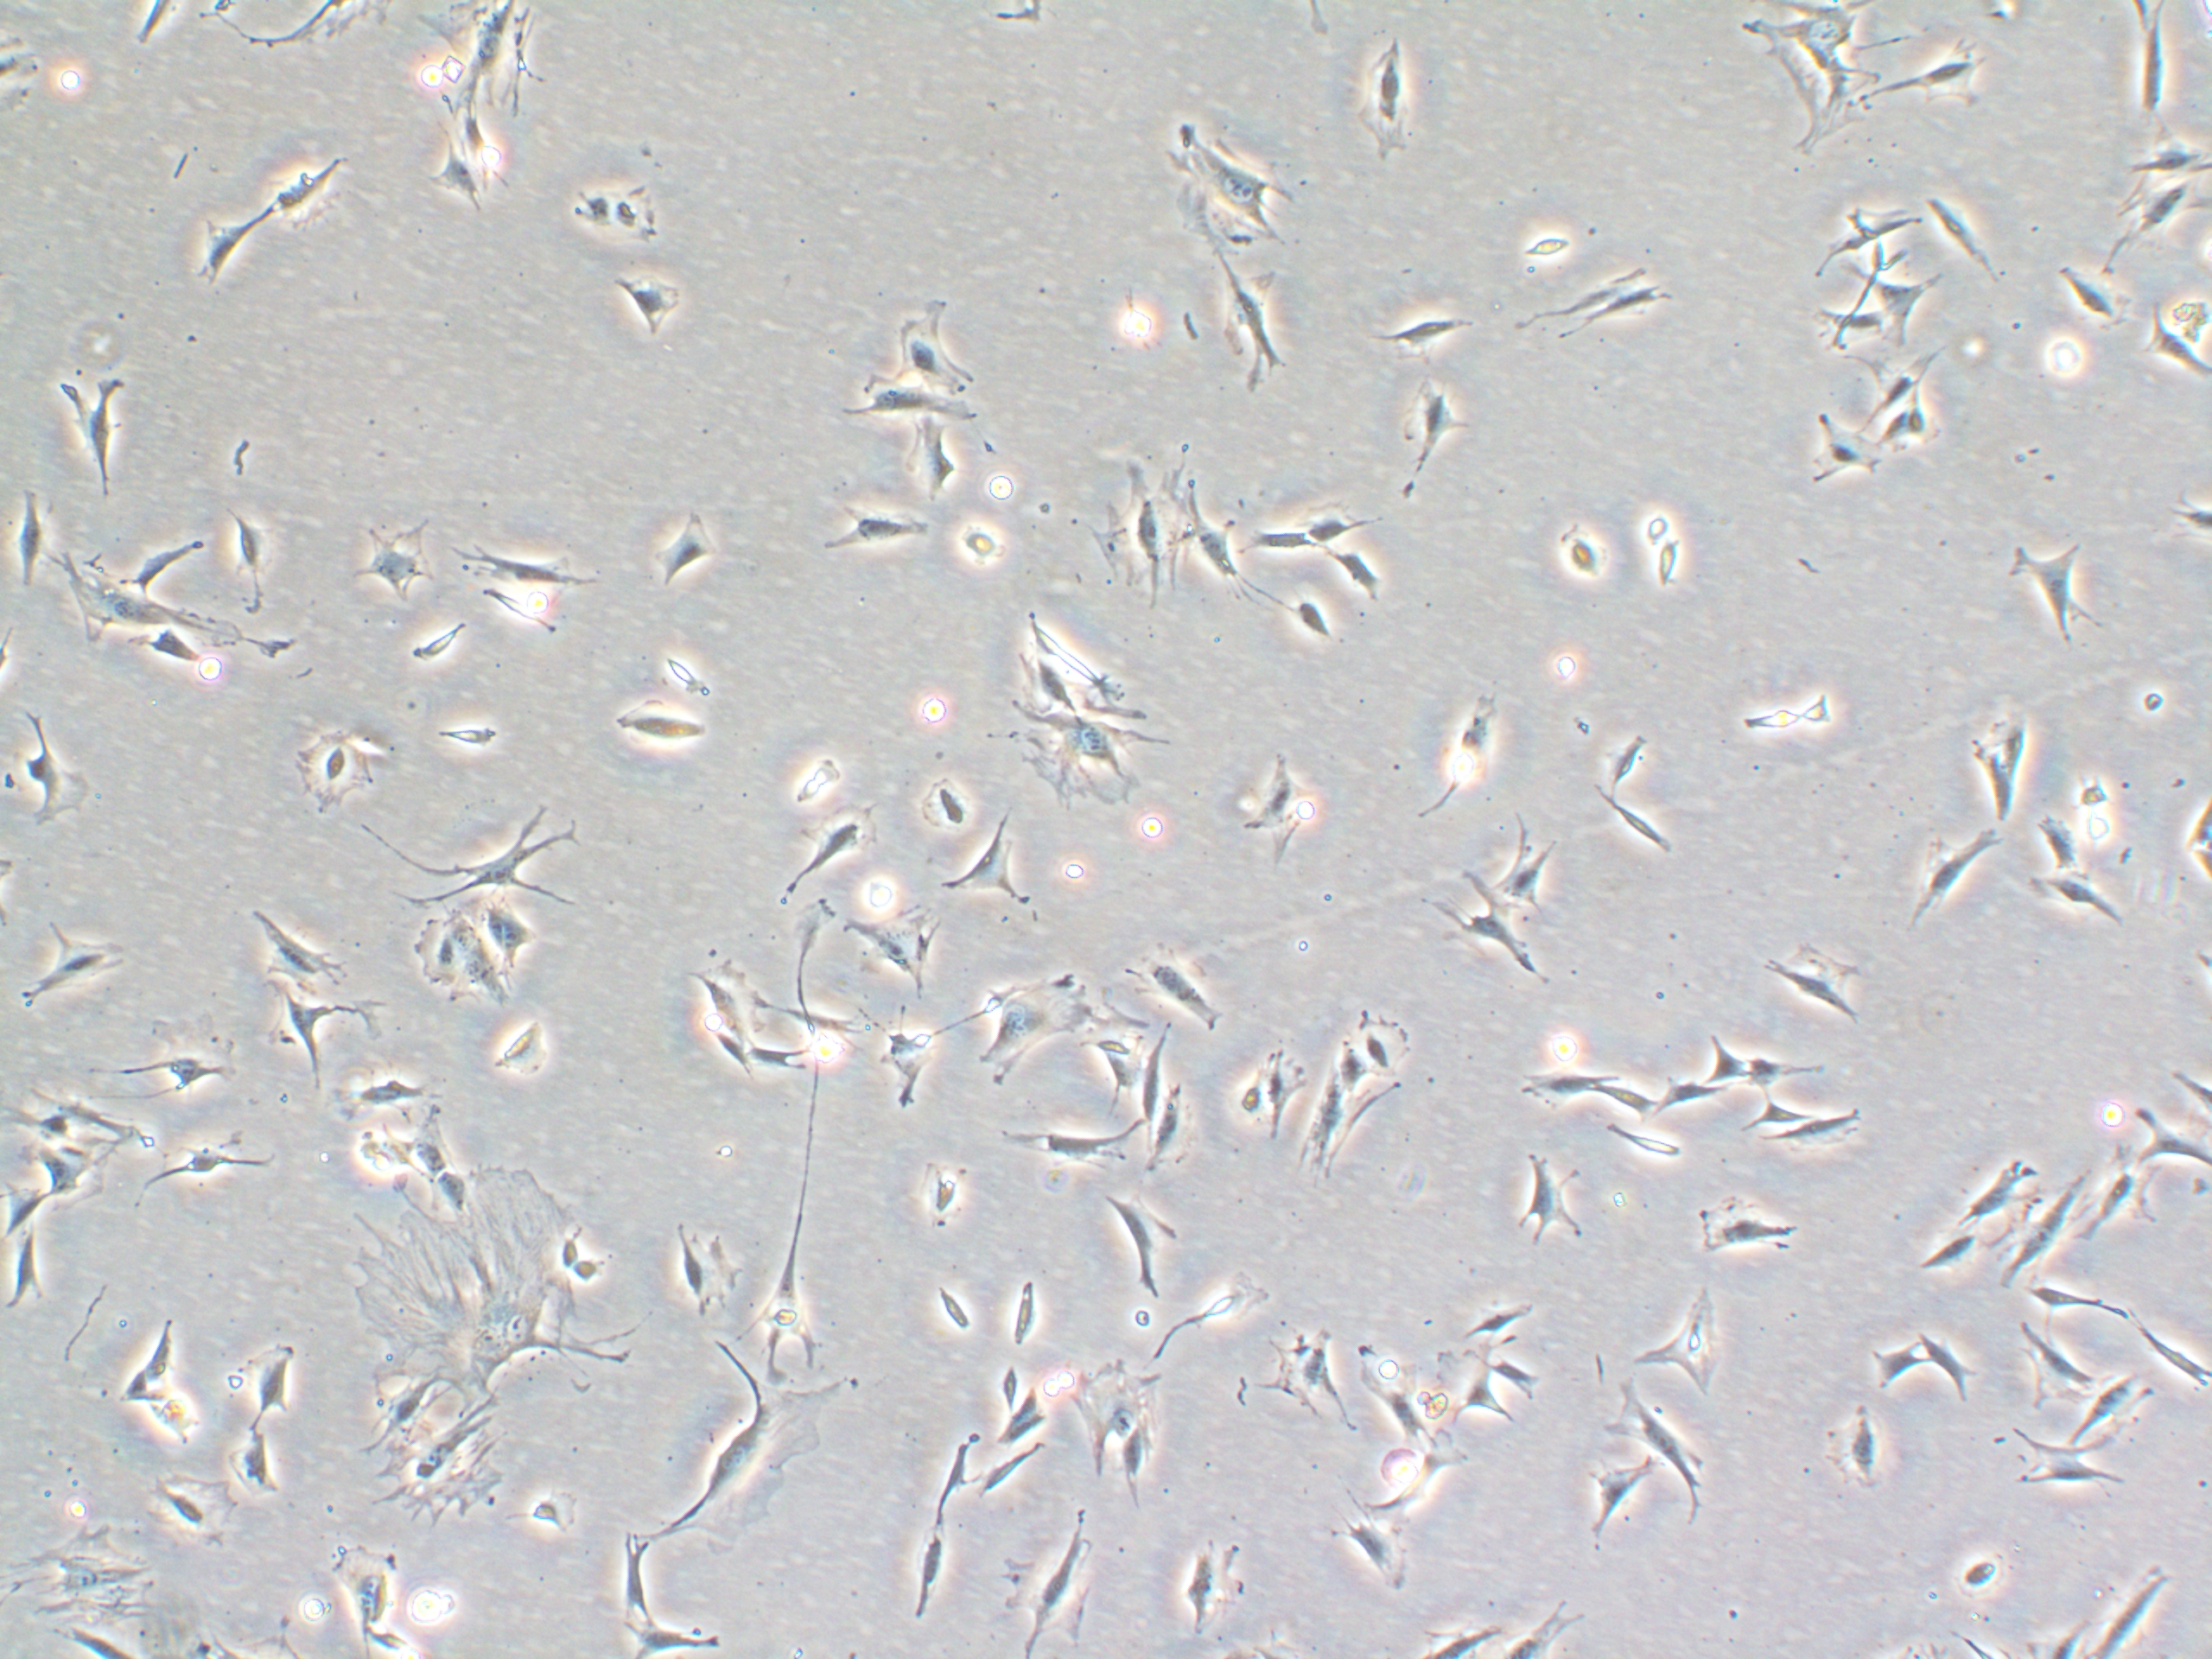small: (477, 1016, 564, 1098), (1543, 512, 1620, 603), (1655, 526, 1726, 620), (427, 708, 526, 770), (906, 767, 989, 838), (949, 512, 1022, 592), (1940, 1537, 2017, 1612), (907, 1145, 972, 1232), (1599, 1121, 1705, 1173), (512, 1481, 582, 1558), (991, 1253, 1047, 1347), (777, 741, 848, 814), (918, 1258, 979, 1344), (1724, 692, 1806, 749), (604, 174, 669, 240), (657, 647, 725, 709), (399, 606, 472, 662), (2054, 756, 2120, 817), (1228, 1065, 1273, 1134), (1508, 228, 1580, 268), (1803, 669, 1844, 734), (982, 1361, 1024, 1417), (573, 1244, 617, 1295)
spread: (341, 1159, 570, 1405), (643, 1370, 857, 1558), (1076, 444, 1209, 612), (991, 699, 1155, 819), (1743, 0, 1867, 157), (961, 958, 1094, 1101), (0, 1527, 153, 1638), (413, 0, 554, 120), (993, 1520, 1111, 1659), (1055, 1354, 1169, 1497), (369, 1420, 507, 1527), (1176, 136, 1294, 240), (280, 721, 385, 819), (141, 1467, 251, 1556), (345, 518, 446, 606)
